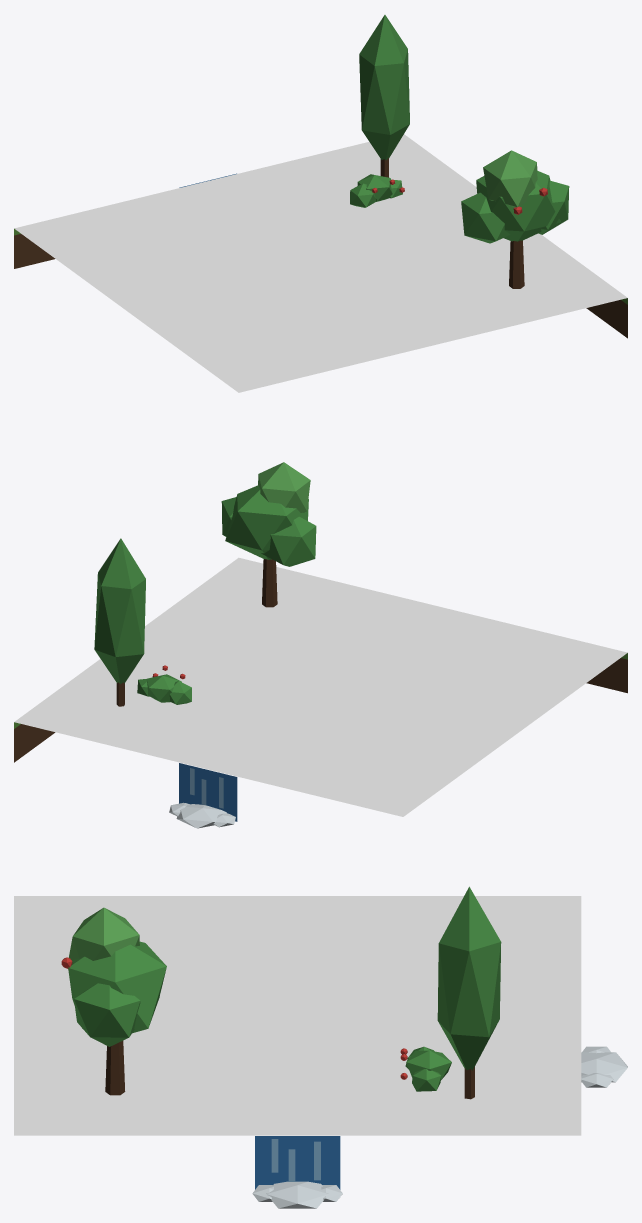
The picture shows the model from 3 angles, top to bottom: view 1: azimuth 30°, elevation 25°; view 2: azimuth 150°, elevation 25°; view 3: azimuth 270°, elevation 25°; orthographic projection. The views are drawn at different scales.
Parts seen in each view (by area): view 1: wC; view 2: wC, fall_N; view 3: wC, fall_E, fall_N.
Boxes of the visible parts, x1,y1,x2,y2 form: wC: [14, 15, 627, 392]; wC: [14, 462, 627, 816]; fall_N: [169, 763, 237, 828]; wC: [14, 886, 581, 1135]; fall_E: [252, 1136, 342, 1208]; fall_N: [581, 1046, 627, 1087].
Bounding box in the file's own units: 2.17 × 1.05 × 2.16.
